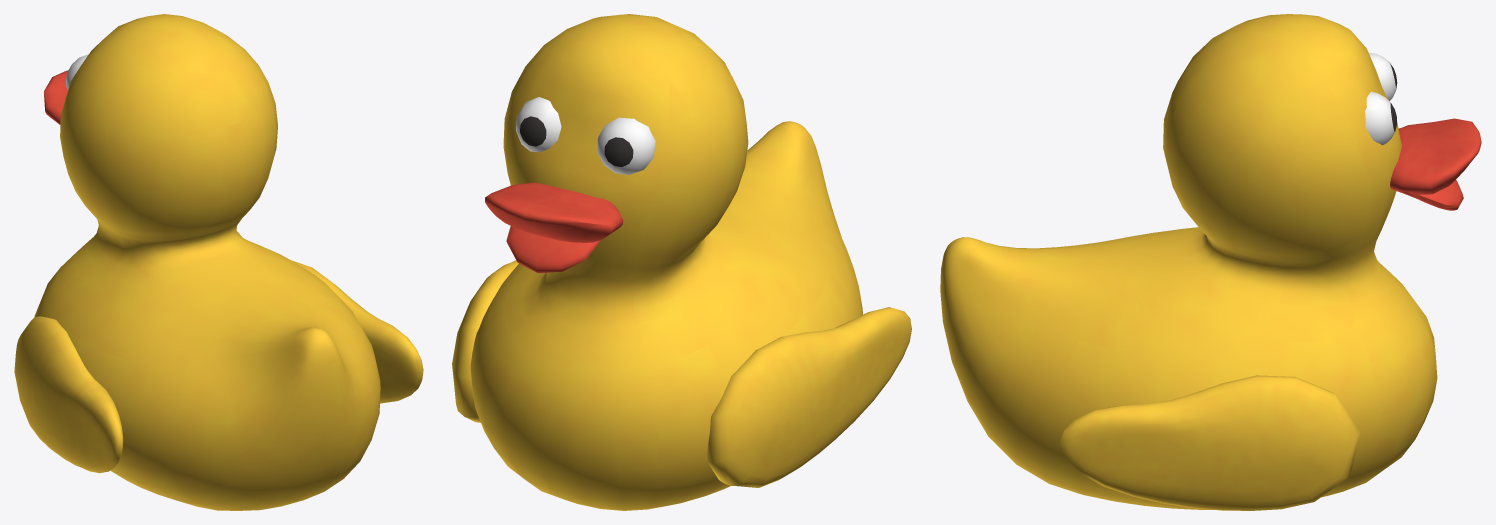
Rendered from basic-duck.fbx.
The picture shows the model from 3 angles, left to right: view 1: azimuth 30°, elevation 25°; view 2: azimuth 150°, elevation 25°; view 3: azimuth 270°, elevation 25°; orthographic projection. The views are drawn at different scales.
Visible parts, largest first — view 1: Basic duck; view 2: Basic duck; view 3: Basic duck.
Part boxes in pixels (x1,y1,x2,y2): Basic duck: (14,14,423,510); Basic duck: (452,14,911,510); Basic duck: (940,14,1481,510).
Size of the model in its own units: 106 by 145 by 137.
